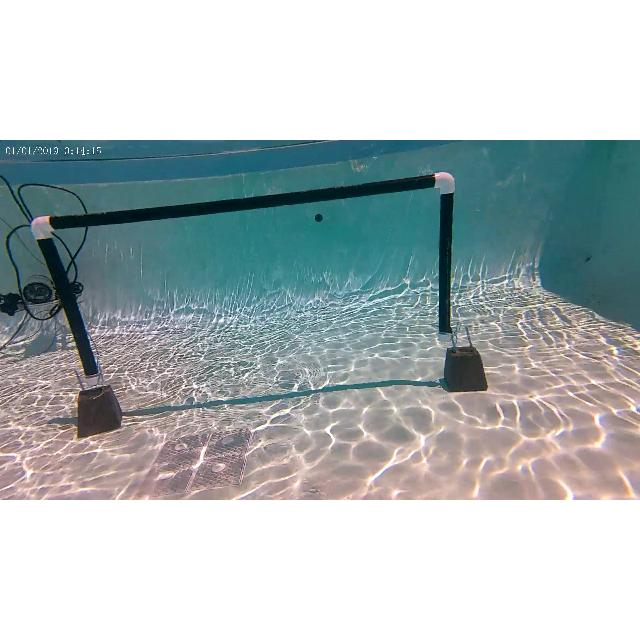prequal gate: (28, 172, 454, 388)
prequal gate leg l: (31, 209, 109, 387)
prequal gate leg r: (428, 172, 464, 348)
